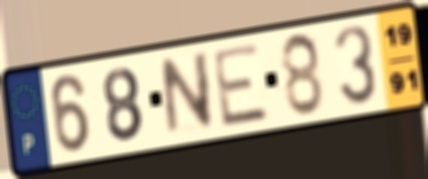3: (332, 24, 379, 109)
6: (49, 72, 93, 155)
8: (279, 30, 325, 121), (101, 66, 147, 145)
E: (210, 40, 273, 131)
N: (158, 48, 216, 140)
